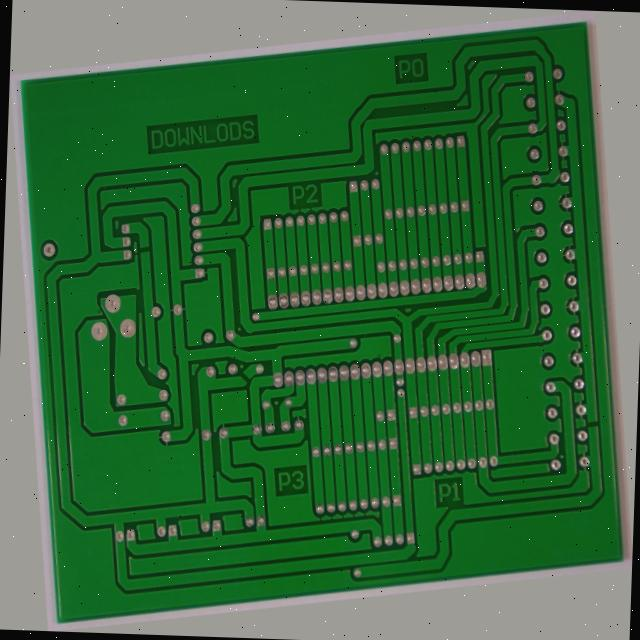open_circuit: (222, 362, 241, 384), (593, 473, 609, 490), (130, 200, 146, 217)
